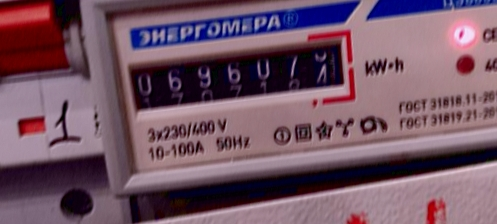0: (134, 70, 154, 96), (253, 53, 271, 80)
4: (311, 61, 330, 87)
6: (164, 66, 184, 92), (223, 58, 243, 84)
7: (283, 52, 301, 79)
9: (194, 63, 212, 88)
screen: (113, 23, 362, 126)
